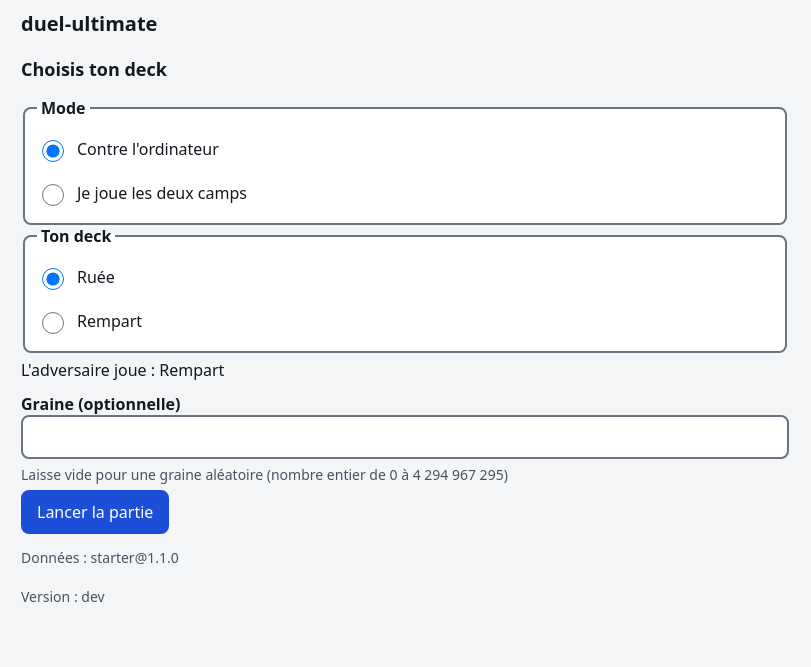
Test: home screen › invalid seed -1: alert tied to the field, no session created
Check: the button "Lancer la partie" is enabled, box [21,490,169,534]
Type "-1" into the field labelled "Graine (optionnelle)" at (405, 437), box [21,415,789,459]
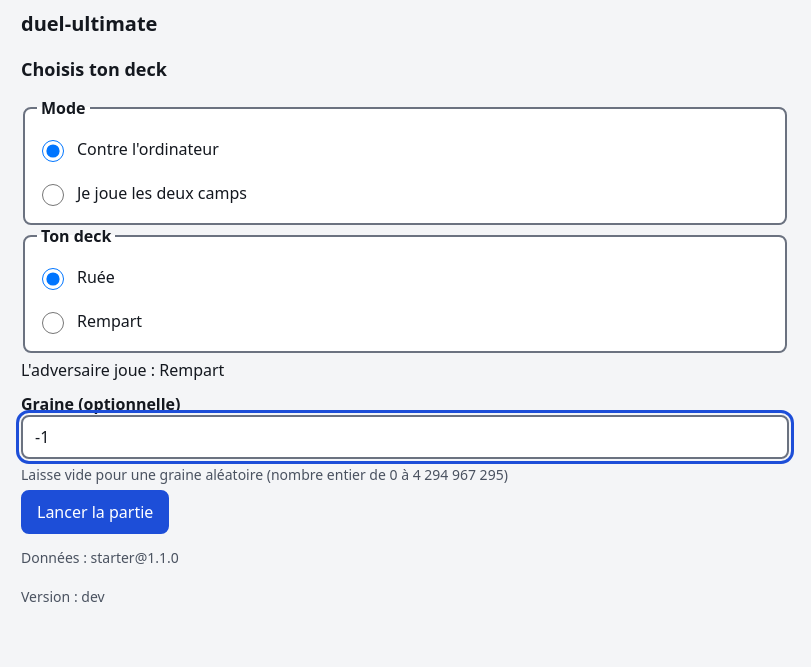
Click the button "Lancer la partie" at (95, 512), box [21,490,169,534]
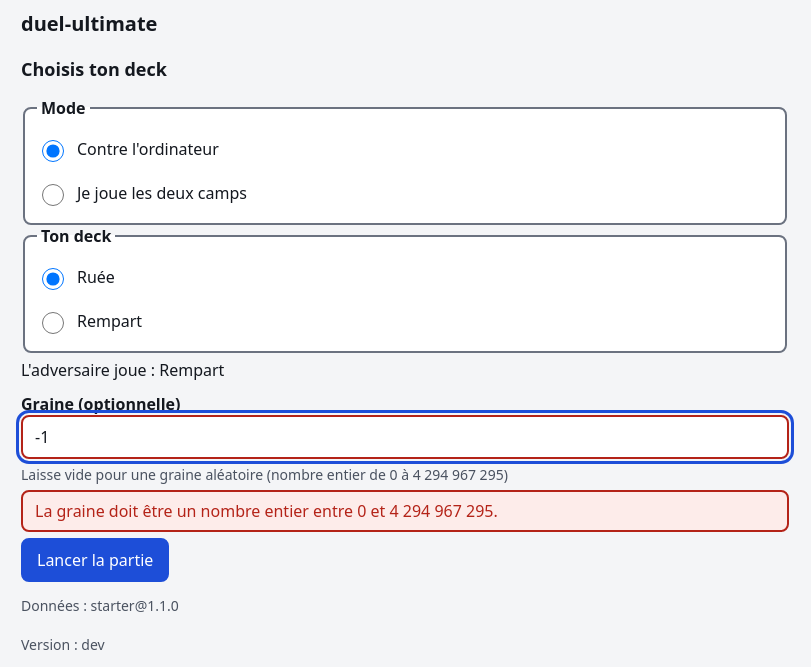
Check: the message reads "La graine doit être un nombre entier entre 0 et 4 294 967 295.", box [35,500,498,522]
